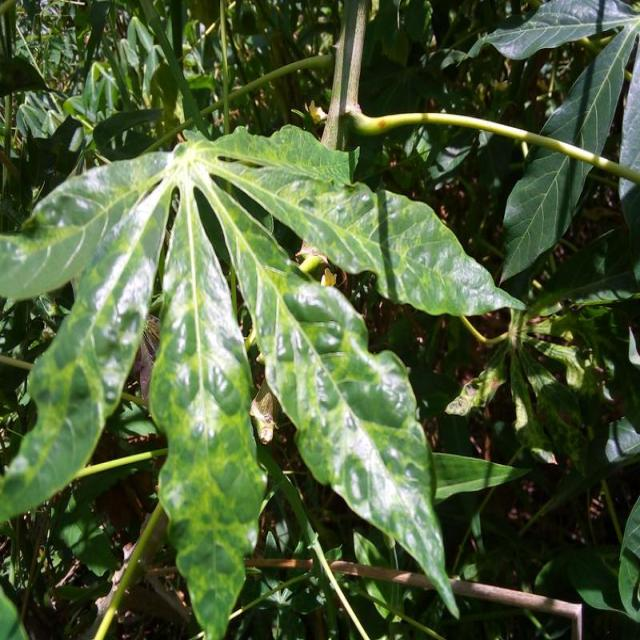cassava leaf: (2, 120, 527, 637)
